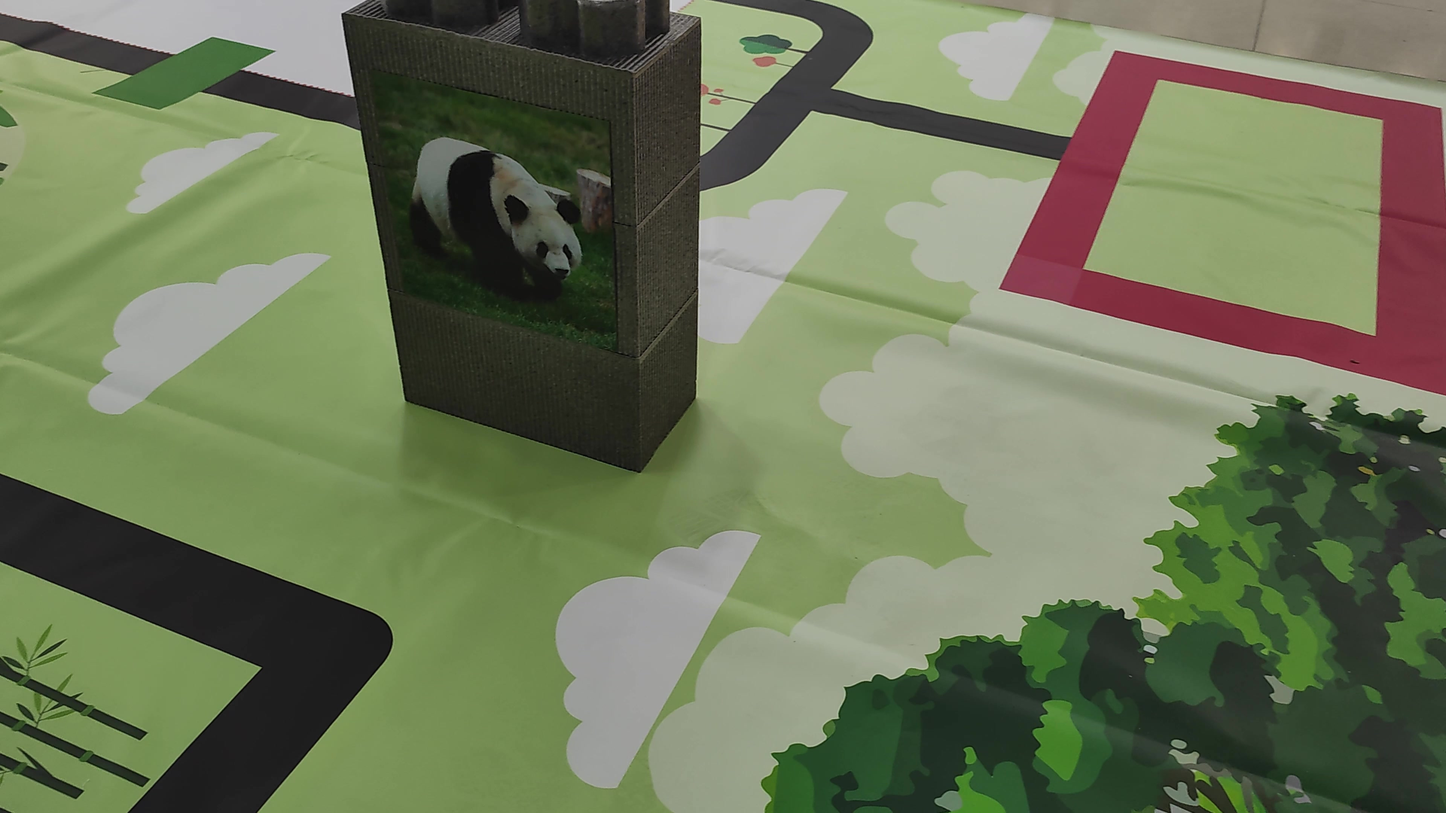panda: (389, 115, 595, 305)
